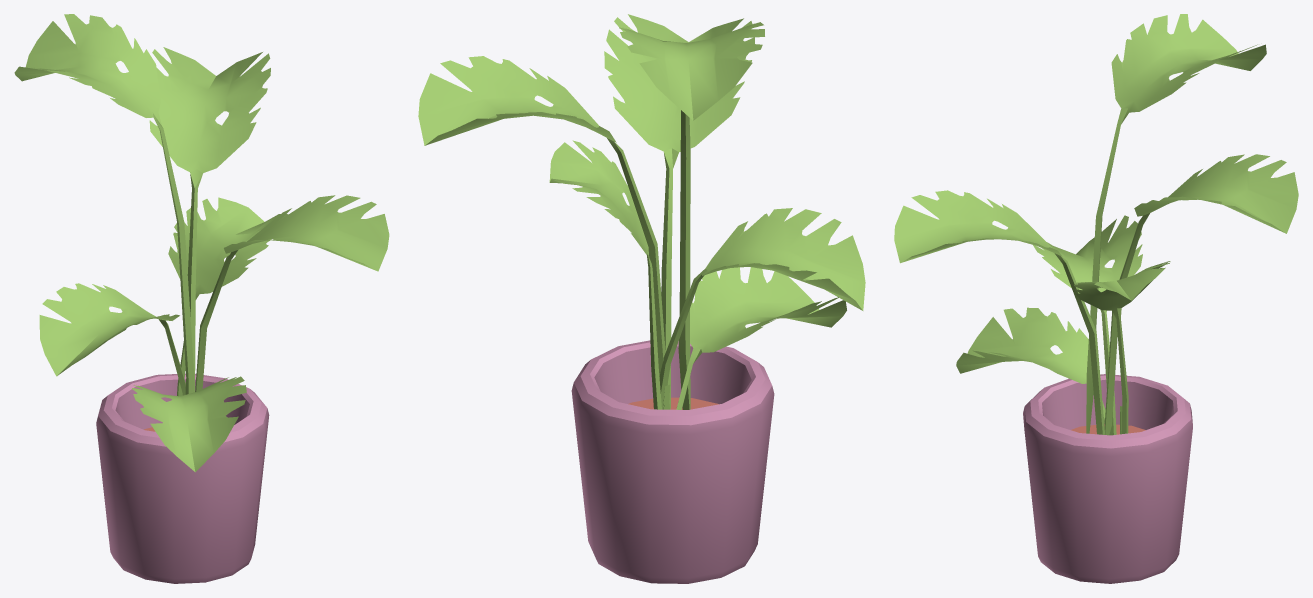
Rendered from plant.fbx.
3 renders of one model, left to right at view 1: azimuth 30°, elevation 25°; view 2: azimuth 150°, elevation 25°; view 3: azimuth 270°, elevation 25°, orthographic. The views are drawn at different scales.
Parts seen in each view (by area): view 1: Cylinder_003; view 2: Cylinder_003; view 3: Cylinder_003.
Boxes of the visible parts, <box> form: Cylinder_003: <box>14,14,389,583</box>; Cylinder_003: <box>418,14,865,583</box>; Cylinder_003: <box>894,14,1298,583</box>.
Bounding box in the file's own units: 94.4 × 154 × 114.
